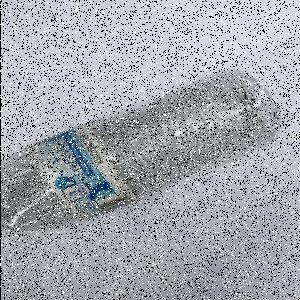Plastic-bottle: (2, 70, 282, 234)
